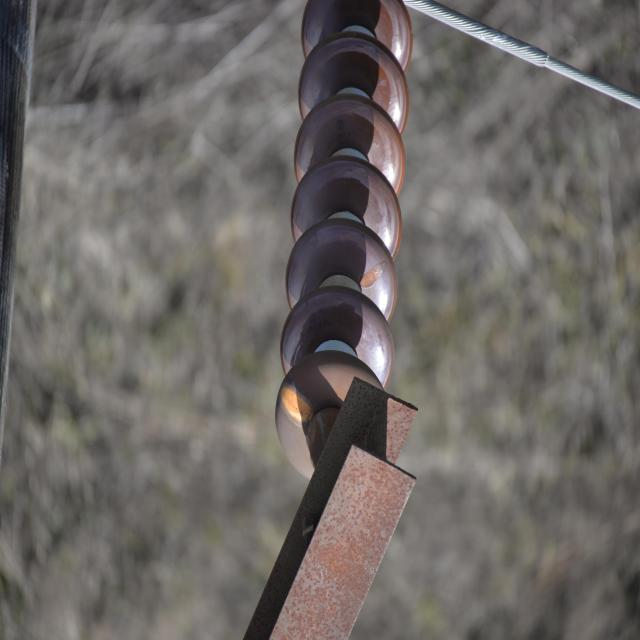insulator: (274, 0, 414, 480)
